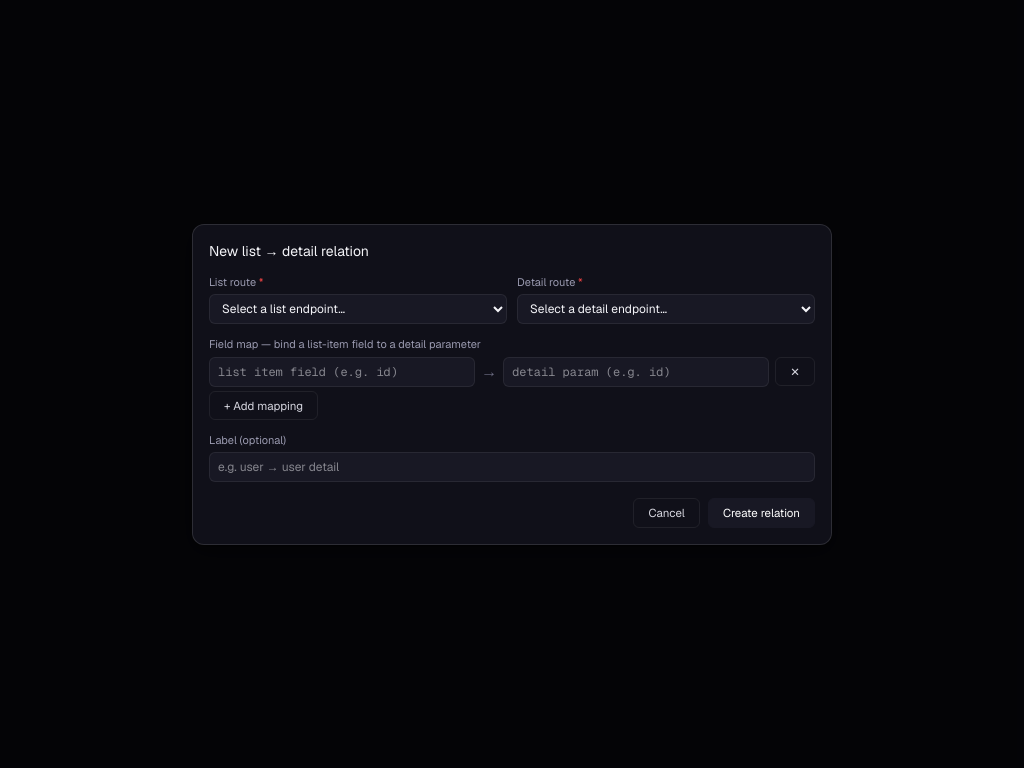
Test case: RelationEditor › adds and removes field-map rows
Check: the element with test id "api-route-relation-form-map-0" is shown, box [209,356,815,386]
Click the button with test id "api-route-relation-form-map-add" at coordinates (264, 405), box [209,390,318,420]
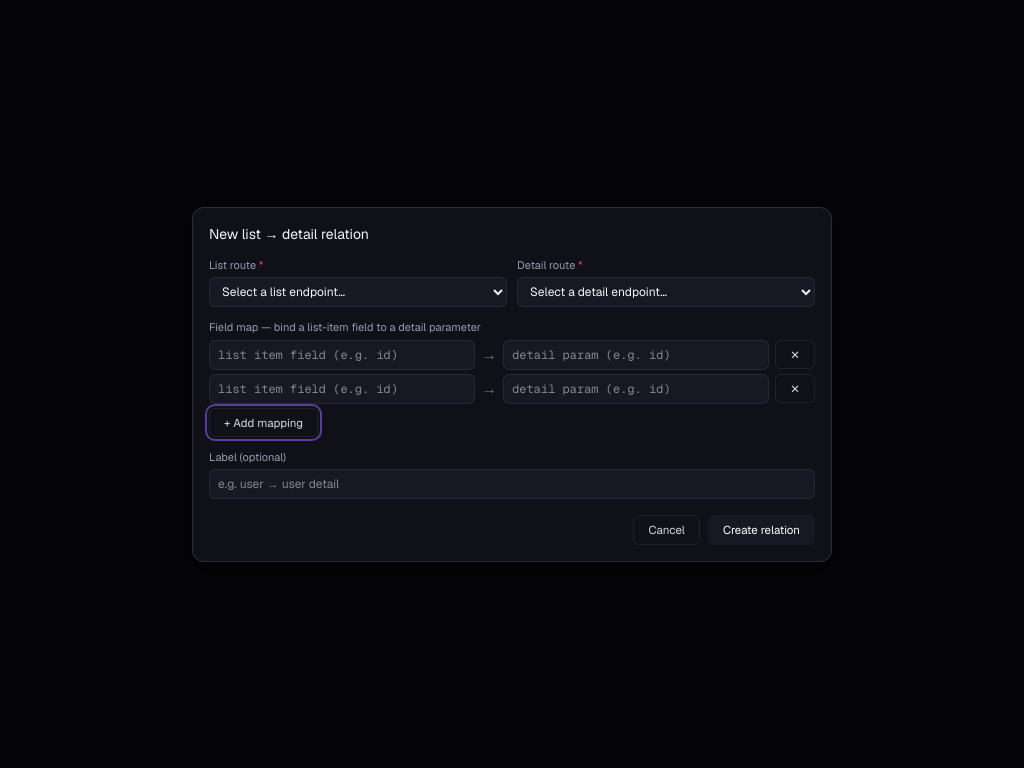
Check: the element with test id "api-route-relation-form-map-1" is shown, box [209,374,815,404]
Click the button with test id "api-route-relation-form-map-1-remove" at coordinates (795, 389), box [775,374,815,403]
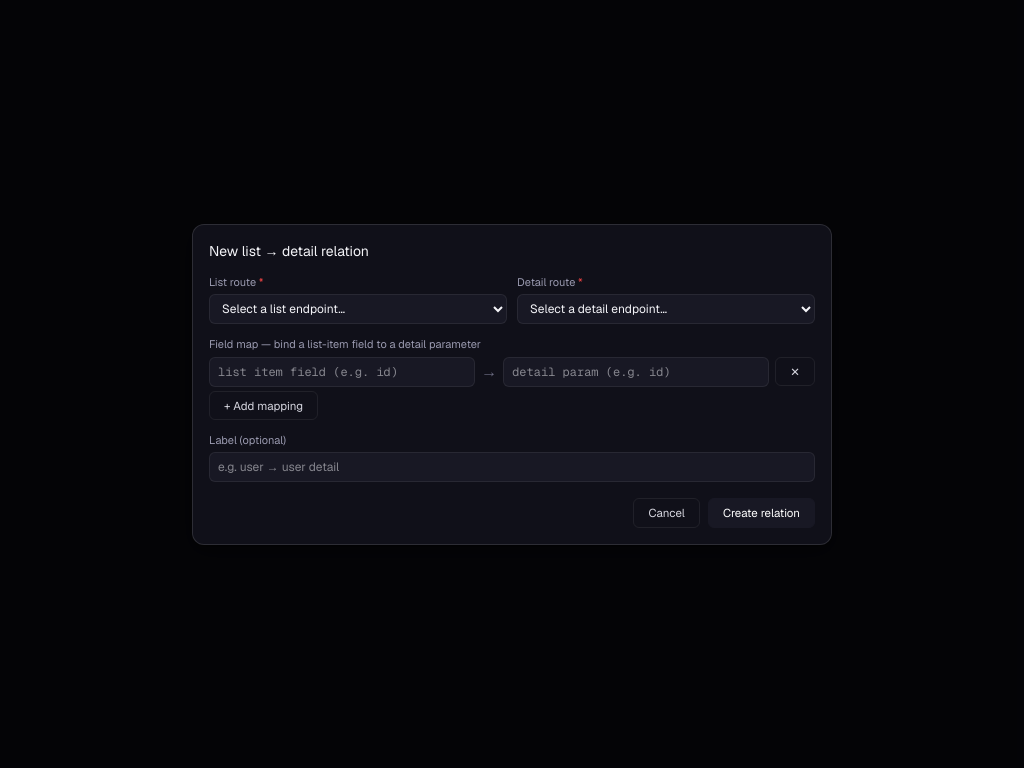
Check: the element with test id "api-route-relation-form-map-1" is gone
